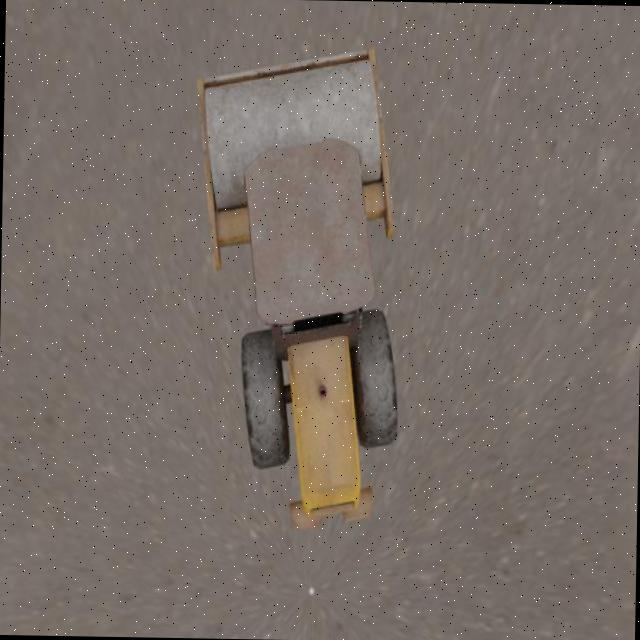Roller: (189, 42, 404, 532)
